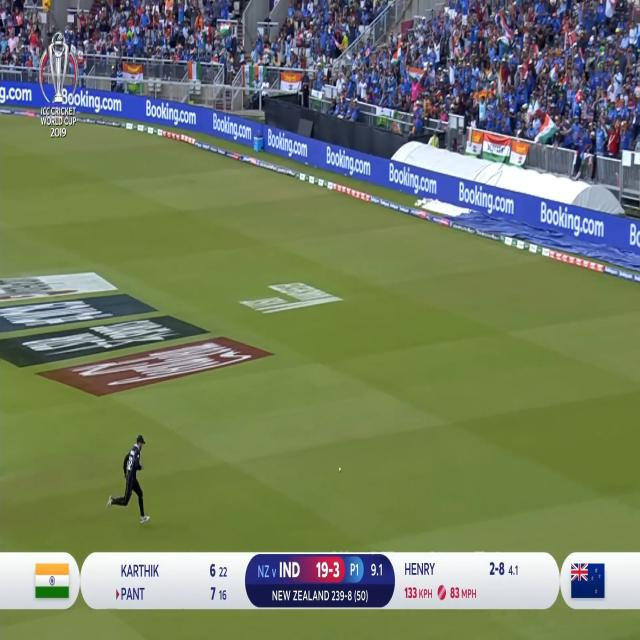ball: (327, 454, 354, 484), (335, 462, 345, 476)
